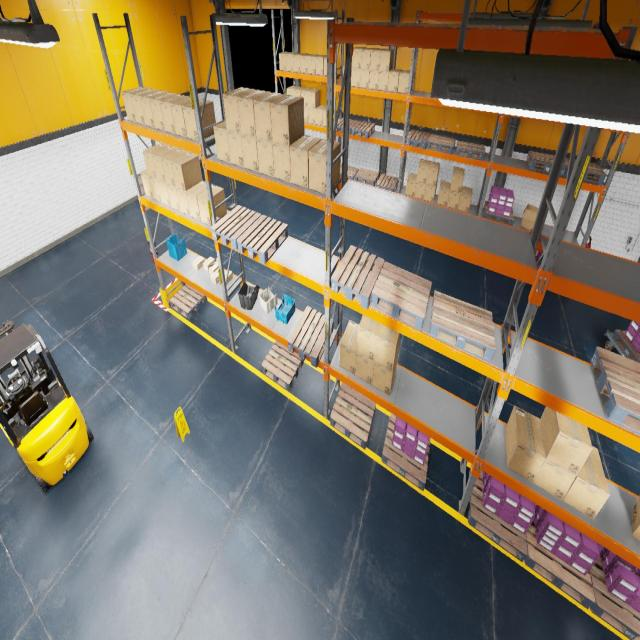box: (540, 407, 592, 475), (563, 446, 610, 519), (534, 419, 576, 500), (505, 405, 545, 483), (309, 138, 340, 194), (270, 95, 304, 146), (290, 134, 321, 188), (253, 92, 286, 141), (237, 90, 270, 138), (182, 99, 216, 141), (223, 87, 254, 133), (372, 345, 399, 396), (170, 96, 200, 138), (196, 184, 226, 226), (374, 324, 400, 372), (171, 152, 202, 191), (149, 92, 179, 131), (160, 94, 188, 134), (339, 320, 359, 375), (130, 88, 159, 125), (140, 90, 168, 128), (357, 315, 380, 361), (186, 181, 213, 220), (161, 148, 188, 186), (122, 87, 150, 122), (152, 146, 178, 182), (142, 143, 168, 179), (272, 142, 291, 183), (213, 120, 230, 163), (256, 138, 274, 177), (241, 134, 259, 172), (227, 130, 244, 167), (355, 352, 374, 385), (521, 204, 538, 230), (176, 187, 190, 216), (157, 179, 171, 207), (140, 169, 153, 198), (632, 494, 640, 541), (458, 186, 472, 212), (450, 166, 464, 192), (167, 184, 180, 211), (149, 176, 162, 203), (437, 181, 451, 206), (426, 161, 440, 186), (416, 159, 430, 183), (379, 49, 394, 71), (447, 184, 460, 209), (388, 69, 402, 92), (370, 48, 384, 70), (405, 172, 417, 197), (424, 180, 437, 202), (361, 48, 374, 70), (398, 70, 410, 93), (352, 47, 365, 68), (300, 53, 313, 73), (293, 53, 306, 72), (308, 88, 320, 108), (324, 56, 336, 76), (308, 54, 320, 74), (414, 181, 426, 200), (301, 88, 313, 107), (286, 52, 298, 71), (279, 51, 291, 70), (378, 70, 389, 90), (316, 106, 326, 126), (316, 55, 326, 75), (369, 70, 379, 89), (192, 256, 205, 270), (360, 69, 369, 88), (351, 68, 360, 87), (203, 256, 215, 270), (208, 258, 218, 274), (343, 66, 351, 86), (211, 268, 219, 284), (224, 270, 233, 284), (293, 87, 306, 96), (308, 108, 315, 124), (287, 85, 298, 95), (304, 106, 308, 122), (323, 108, 326, 126)
forklift: (0, 320, 93, 493)
pallets: (524, 517, 595, 609), (468, 464, 527, 562), (588, 546, 640, 639), (429, 291, 496, 362), (590, 346, 640, 434), (371, 261, 432, 331), (382, 413, 431, 491), (332, 245, 384, 309), (330, 382, 376, 449), (288, 306, 334, 367), (237, 214, 288, 264), (211, 205, 261, 250), (262, 341, 304, 391), (169, 284, 207, 319), (564, 158, 606, 184), (526, 150, 566, 176), (612, 330, 640, 362), (484, 201, 514, 226), (426, 134, 456, 154), (456, 140, 485, 160), (406, 130, 430, 150), (355, 168, 379, 186), (351, 121, 375, 138), (376, 174, 398, 192), (334, 118, 358, 134), (340, 164, 359, 180)
